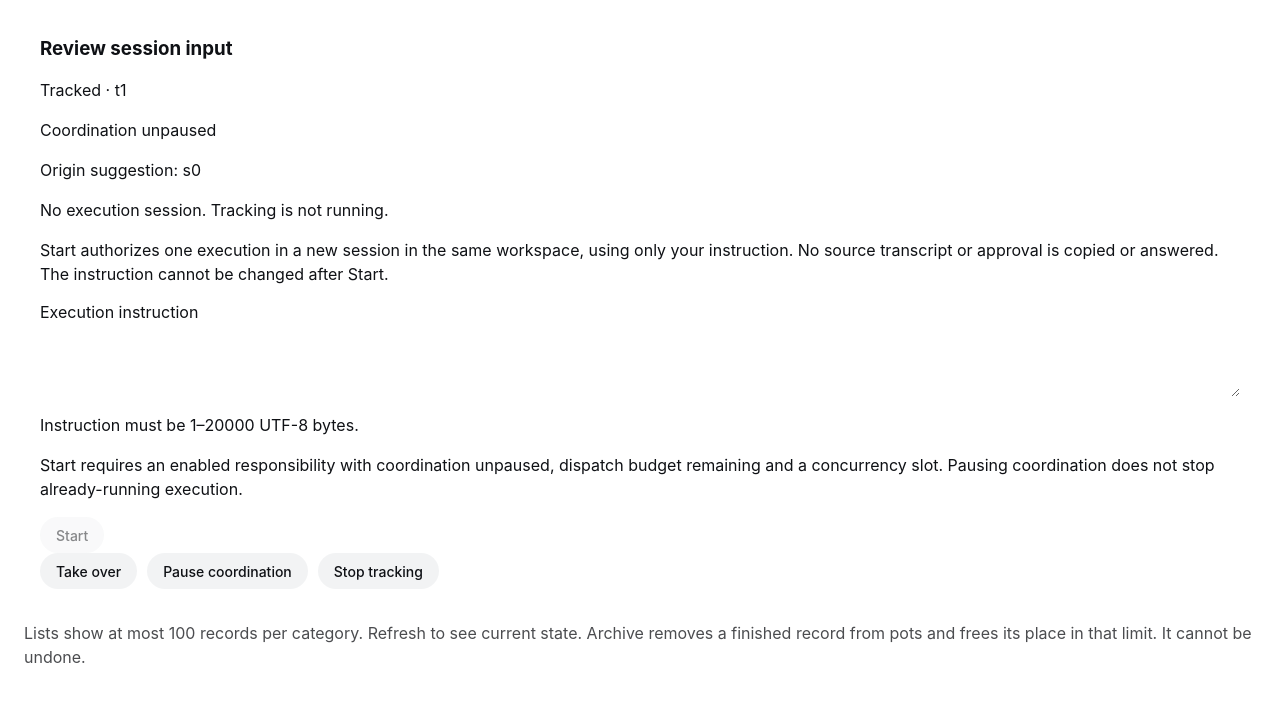
Test: pots tracking checkpoint › never retries an uncertain Start and keeps Stop available with delivery warning
(page scrolled)
Type "Inspect workspace" into the text box labelled "Execution instruction" at (640, 362), box [40,328,1240,398]
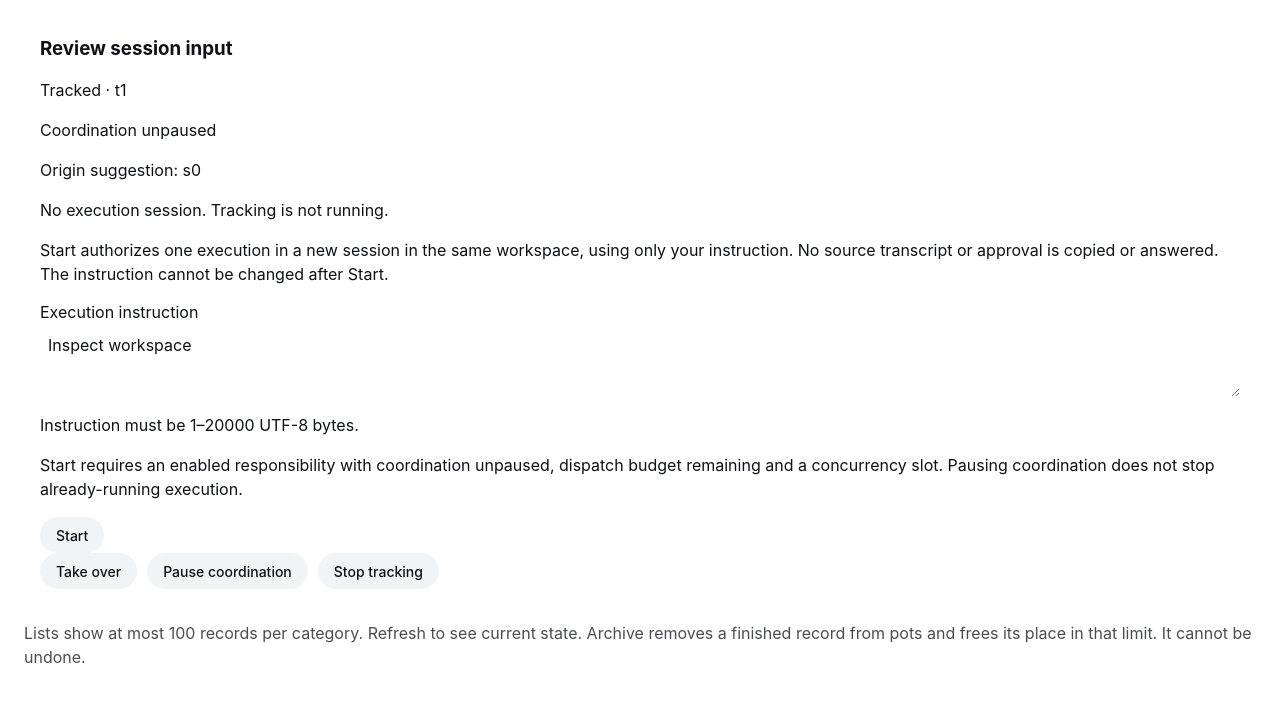
Click the button "Start" at (72, 536), box [40,518,104,554]
(page scrolled)
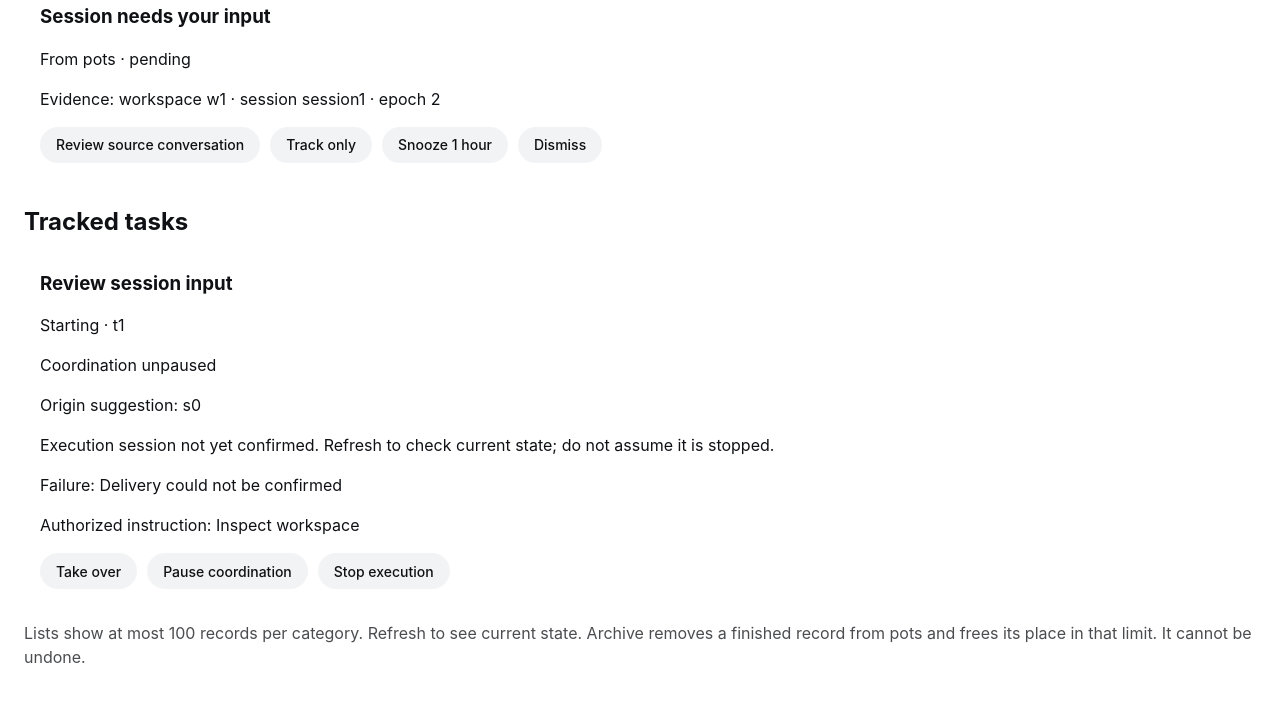
Expected: the text "Starting" is shown, [40,316,125,336]
Expected: the button "Stop execution" is enabled, [318,554,450,590]
Expected: the text "do not assume it is stopped" is shown, [40,436,774,456]
